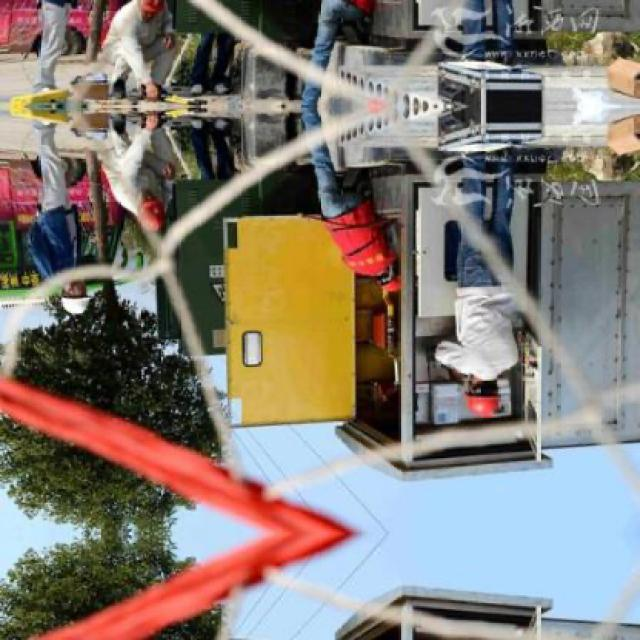con casco: (431, 357, 514, 429)
